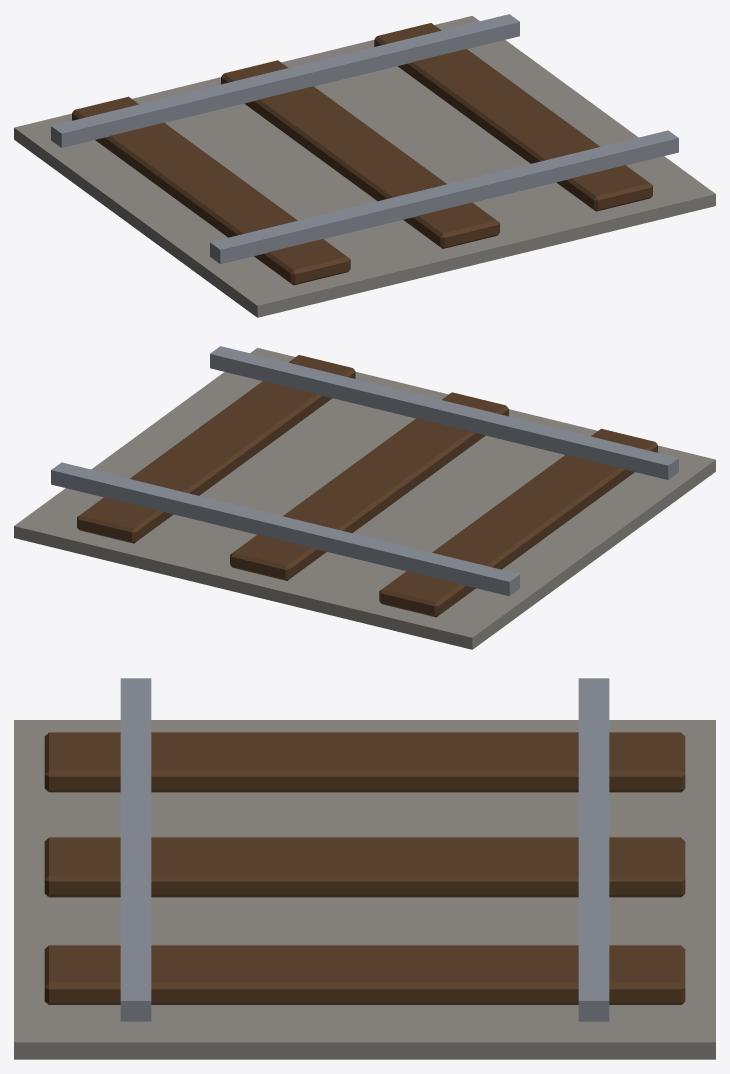
File: rail.glb
The picture shows the model from 3 angles, top to bottom: view 1: azimuth 30°, elevation 25°; view 2: azimuth 150°, elevation 25°; view 3: azimuth 270°, elevation 25°; orthographic projection. The views are drawn at different scales.
Visible parts, largest first — view 1: rail; view 2: rail; view 3: rail.
Part boxes in pixels (<box>): rail: <box>14,14,715,317</box>; rail: <box>14,346,715,649</box>; rail: <box>14,678,715,1059</box>.
Bounding box in the file's own units: 1 × 0.085 × 0.92.
